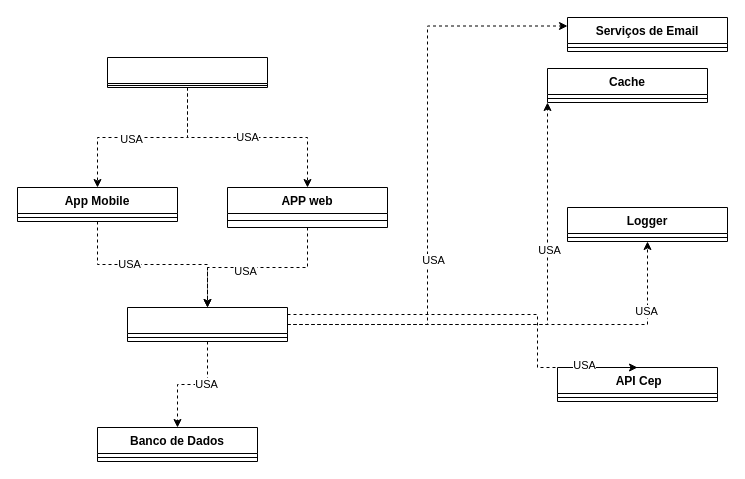
This 745x479 diagram has some shape labels left out. The shapes that lost their labels are listed below. From the top down, each one's box as (x1, y1, x2, y2) in pixels, then its label:
(106, 56, 268, 88): Usuario
(126, 306, 288, 342): Framework Laravel
